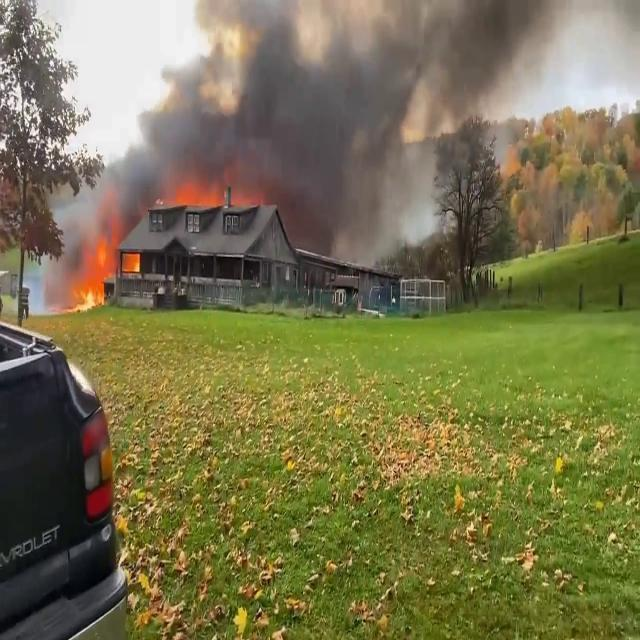Fire: (65, 237, 117, 312)
Smoke: (73, 0, 545, 234)
